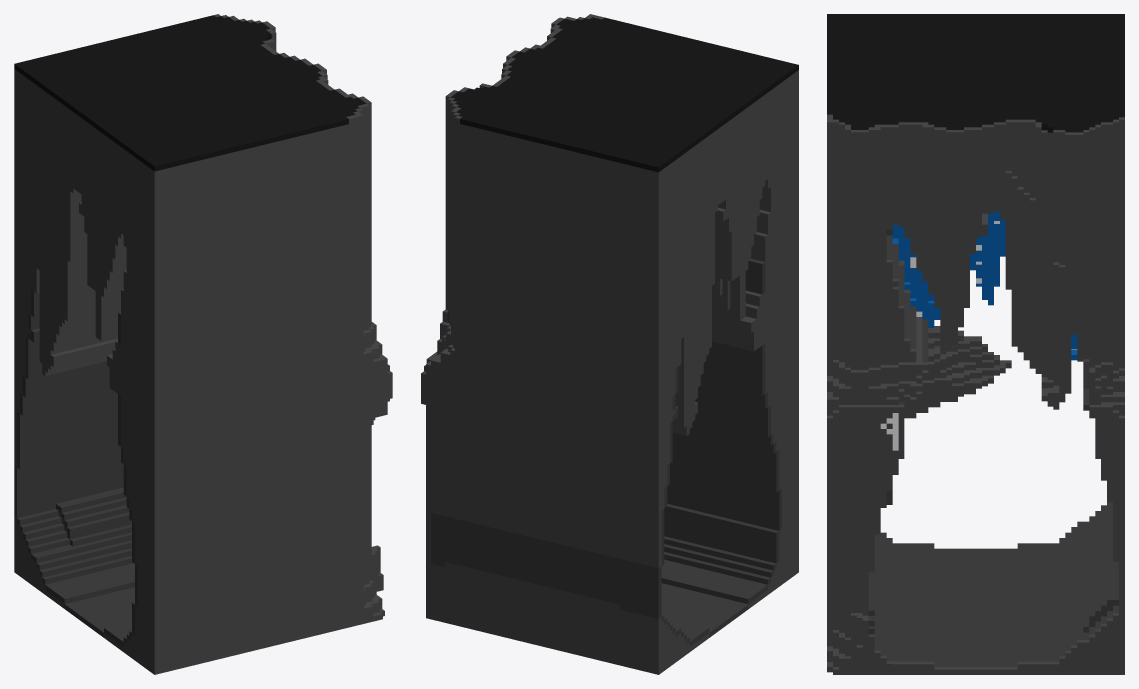
File: дыра в стене.obj
3 renders of one model, left to right at view 1: azimuth 30°, elevation 25°; view 2: azimuth 150°, elevation 25°; view 3: azimuth 270°, elevation 25°, orthographic. The views are drawn at different scales.
Bounding box in the file's own units: 5 × 10 × 5.
1 material, 1 textured.
